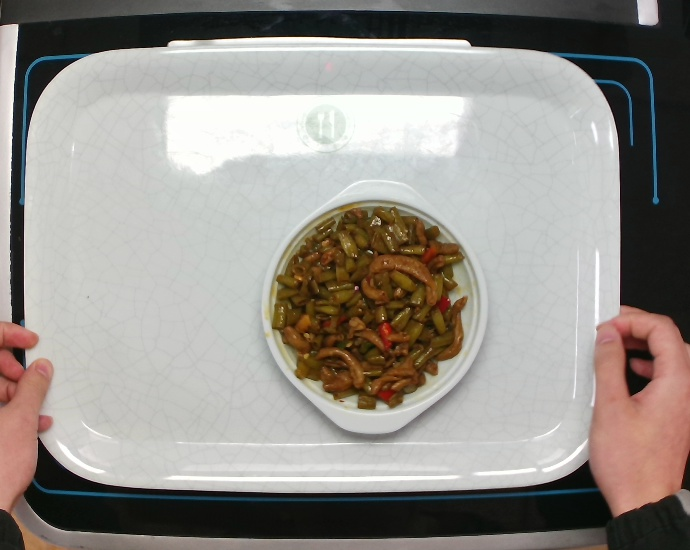JYsf-Shuang_Er_Pan: (261, 177, 493, 439)
